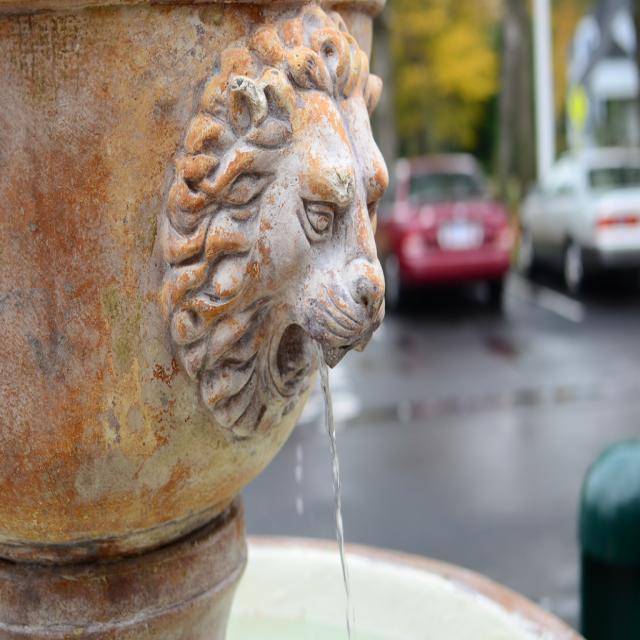car: (382, 155, 518, 323)
